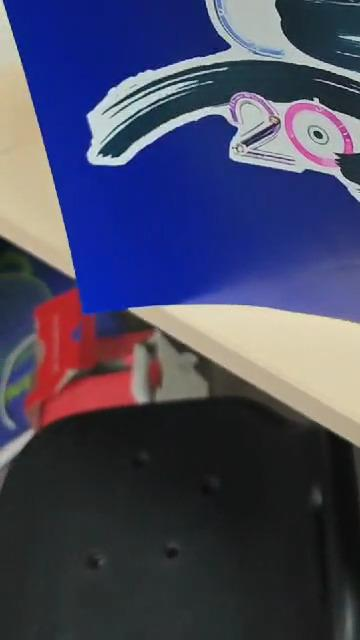B_R1: (72, 0, 360, 297)
